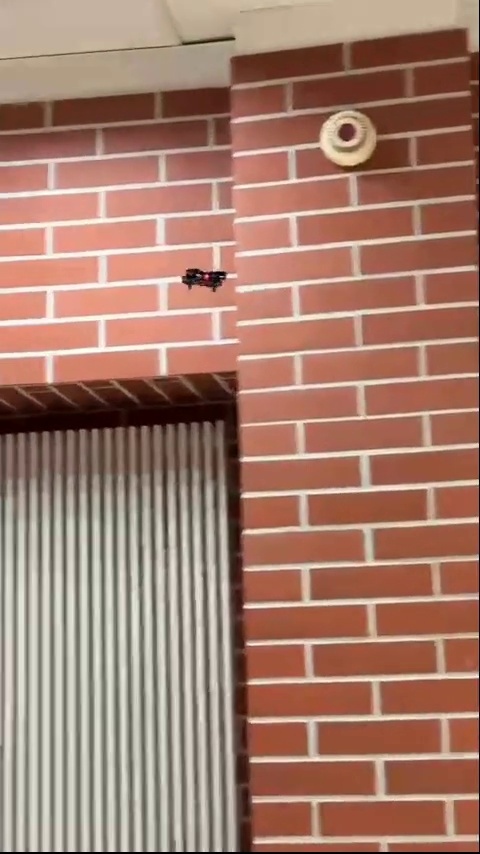drone: (180, 266, 230, 293)
